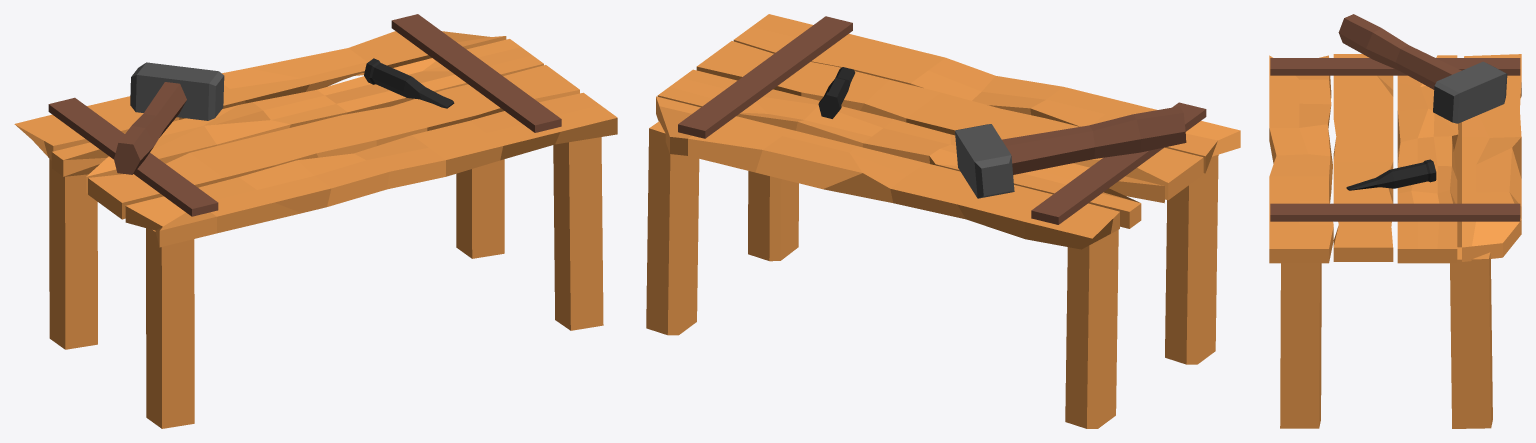
The model's file is Crafting Table.fbx.
3 renders of one model, left to right at view 1: azimuth 30°, elevation 25°; view 2: azimuth 150°, elevation 25°; view 3: azimuth 270°, elevation 25°, orthographic. The views are drawn at different scales.
Parts seen in each view (by area): view 1: Cube, Plane, Cube.004, Cube.001, Cylinder; view 2: Cube, Plane, Cube.001, Cube.004, Cylinder; view 3: Cube, Plane, Cube.001, Cube.004, Cylinder.
Boxes of the visible parts, x1,y1,x2,y2 form: Cube: [14, 31, 617, 428]; Plane: [48, 14, 561, 216]; Cube.004: [130, 62, 224, 120]; Cube.001: [114, 82, 186, 174]; Cylinder: [364, 58, 454, 108]; Cube: [646, 14, 1240, 428]; Plane: [678, 16, 1206, 224]; Cube.001: [1002, 106, 1186, 174]; Cube.004: [955, 124, 1014, 198]; Cylinder: [818, 67, 855, 118]; Cube: [1269, 54, 1521, 428]; Plane: [1270, 58, 1520, 221]; Cube.001: [1338, 14, 1461, 89]; Cube.004: [1433, 61, 1507, 123]; Cylinder: [1346, 159, 1436, 190].
Bounding box in the file's own units: 575 × 313 × 314.
